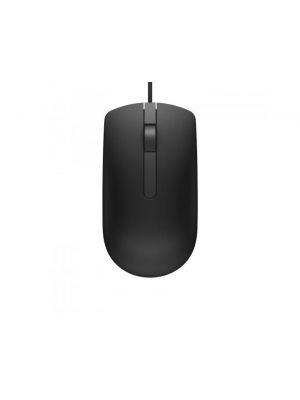dell-mouse-ms116: (100, 78, 198, 293)
